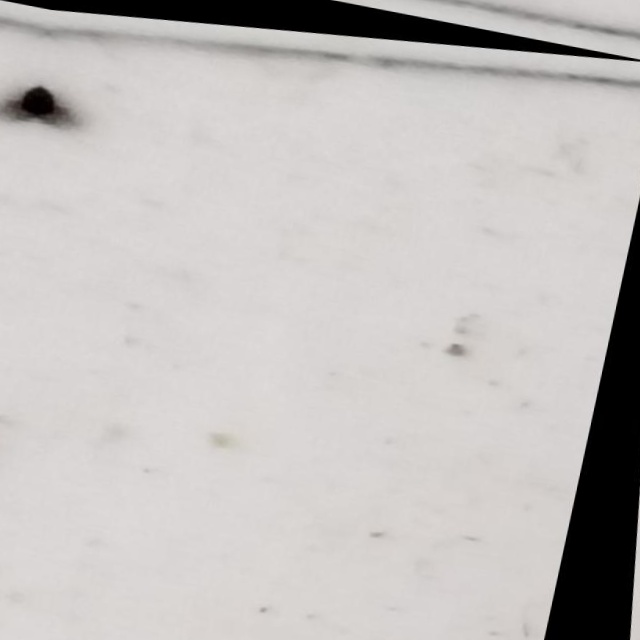varroa: (37, 74, 62, 115)
